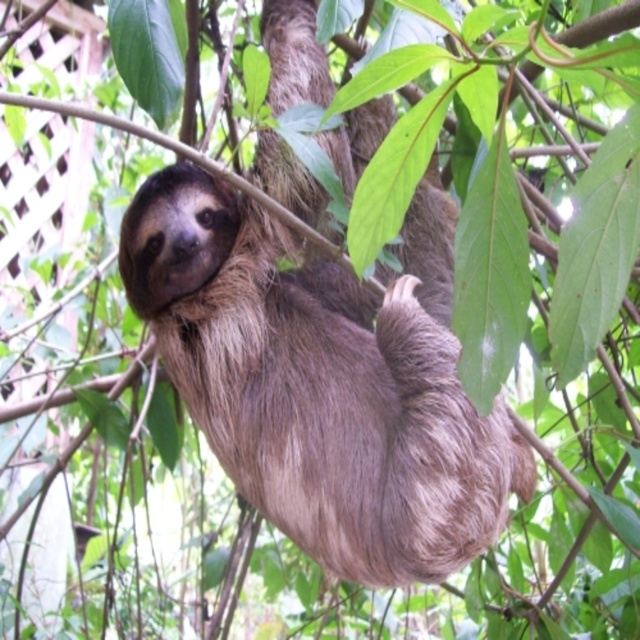Monkey: (118, 0, 538, 589)
